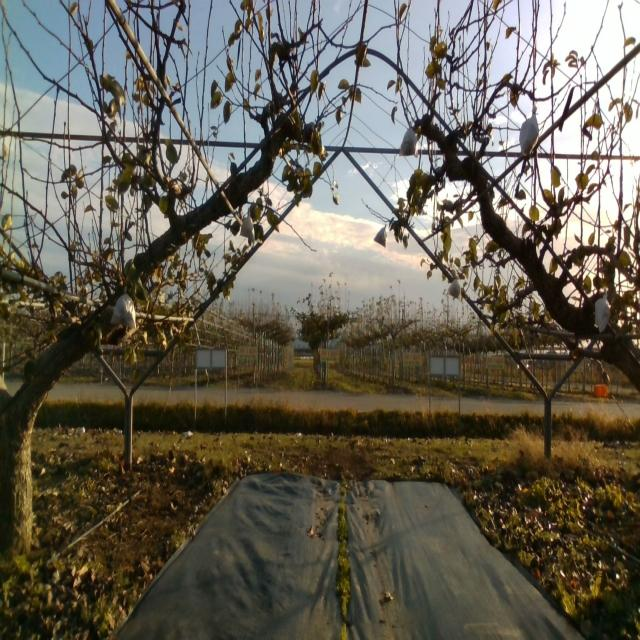pearbags: (109, 285, 136, 330), (518, 105, 539, 157), (397, 120, 420, 157), (595, 294, 610, 332), (239, 208, 255, 240), (447, 276, 462, 301), (374, 223, 386, 247)
